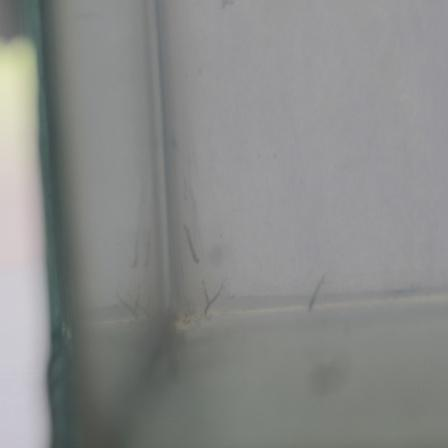Jentik-Nyamuk: (199, 280, 225, 317)
